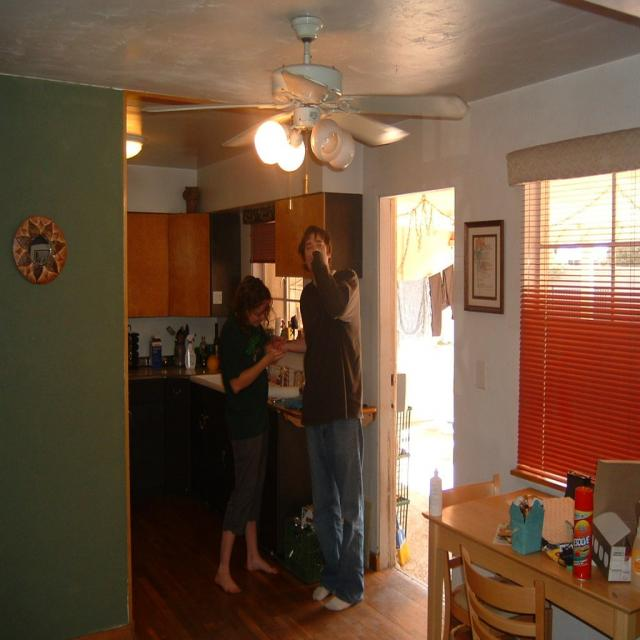Bulb: (140, 13, 470, 214)
